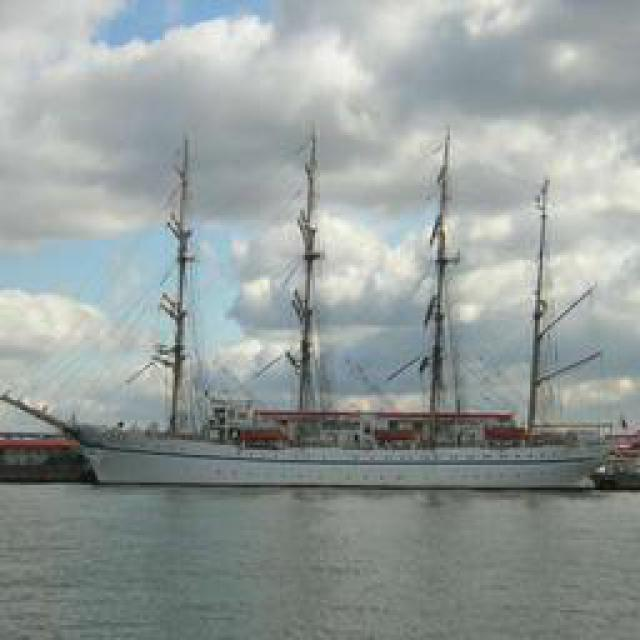Ship: (49, 423, 614, 488)
